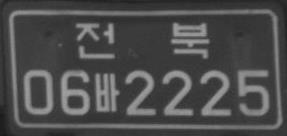0: (22, 69, 54, 115)
2: (199, 69, 232, 116), (124, 69, 156, 116), (162, 69, 194, 116)
5: (237, 68, 270, 117)
6: (60, 69, 91, 116)
바: (94, 73, 119, 112)
전북_D: (75, 22, 209, 58)
